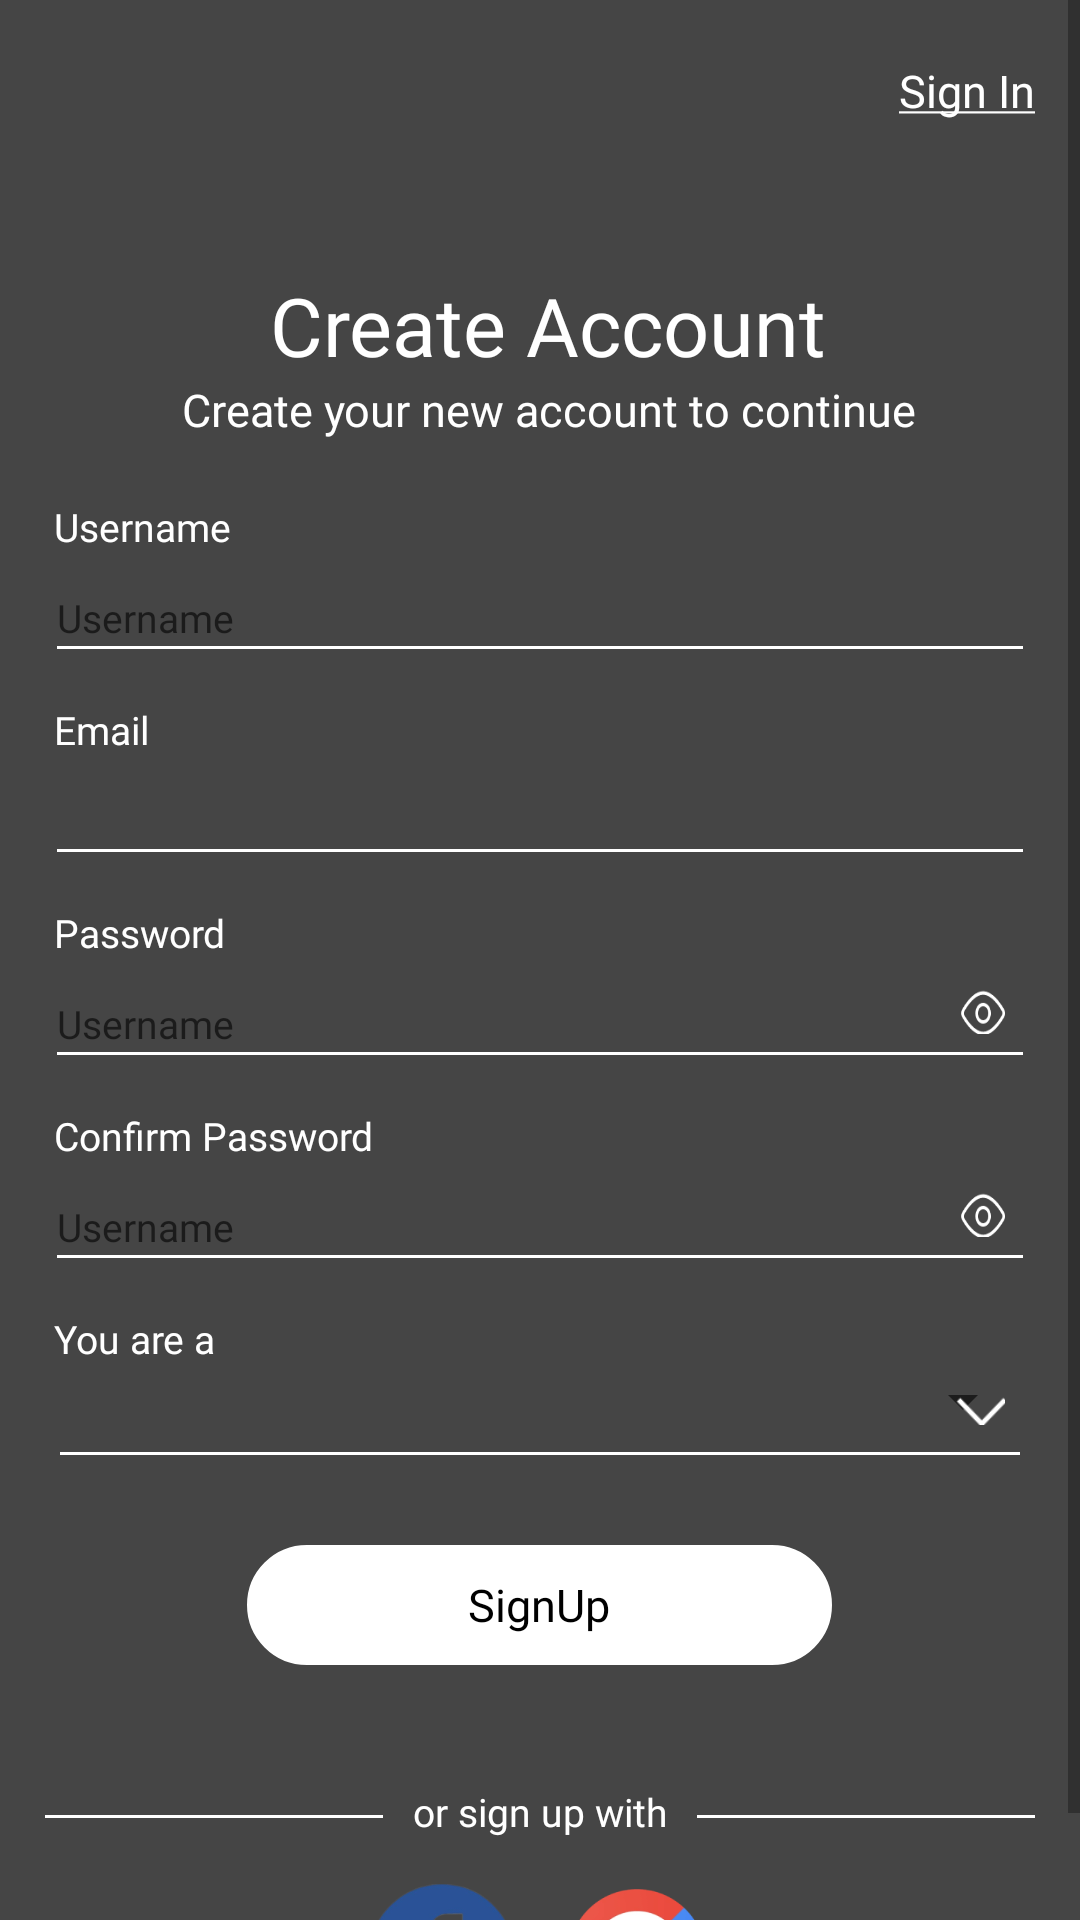

Icon bounding boxes for this 1080*1920 phone screenshot, format (x1, y1, x2, y2):
arrow down: (954, 1395, 1005, 1425)
eye: (961, 991, 1005, 1034), (961, 1194, 1005, 1237)
